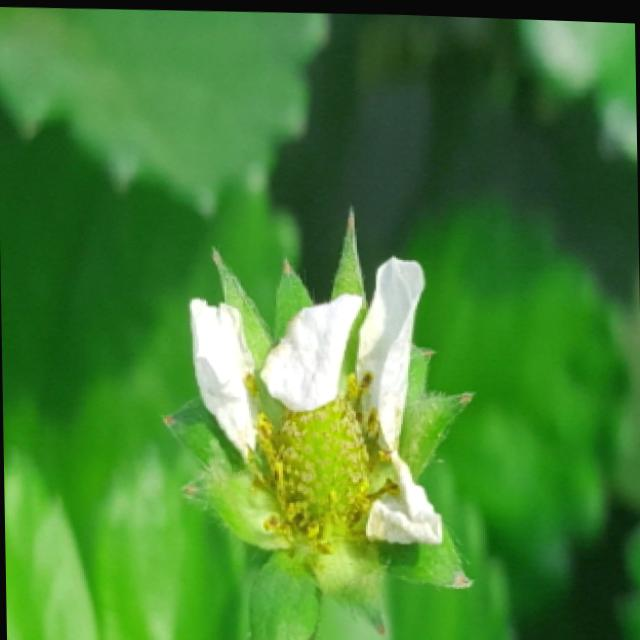Blossom Blight: (240, 365, 402, 557)
